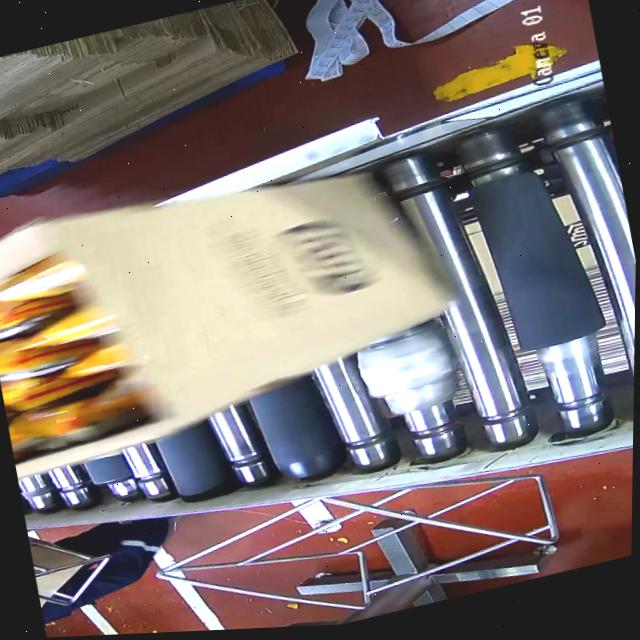FRENCH_CHEESE: (0, 280, 135, 457)
